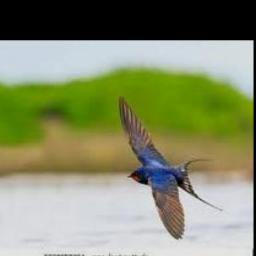Swallow: (119, 94, 224, 239)
